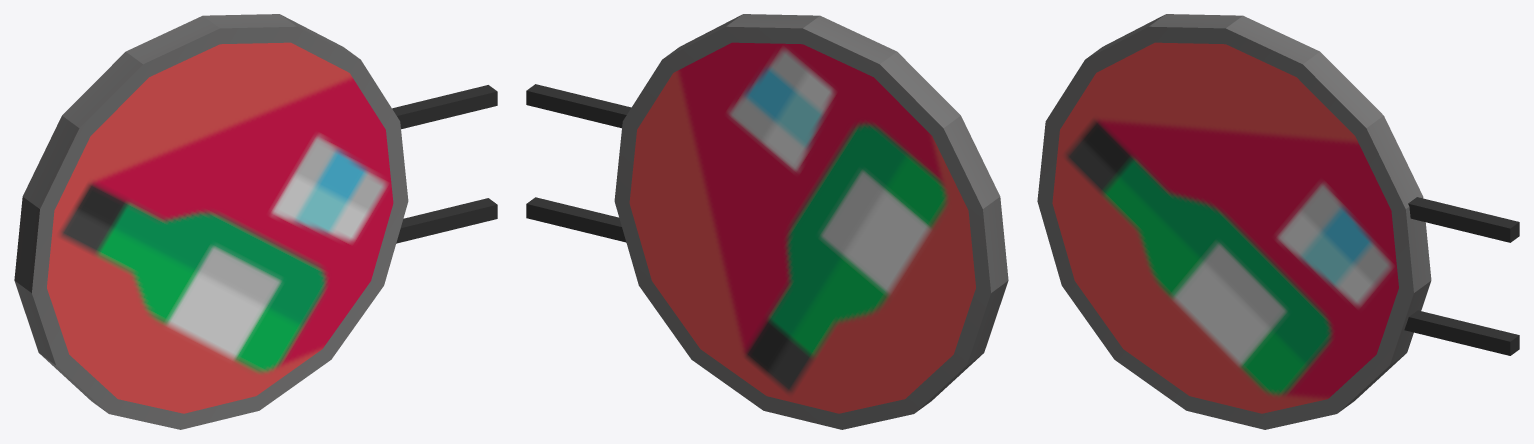
Rendered from B02_Enseigne_B_01.fbx.
The picture shows the model from 3 angles, left to right: view 1: azimuth 30°, elevation 25°; view 2: azimuth 150°, elevation 25°; view 3: azimuth 330°, elevation 25°; orthographic projection.
Parts seen in each view (by area): view 1: B02_Enseigne_B_01; view 2: B02_Enseigne_B_01; view 3: B02_Enseigne_B_01.
Boxes of the visible parts, <box> form: B02_Enseigne_B_01: <box>14,14,497,429</box>; B02_Enseigne_B_01: <box>526,14,1008,429</box>; B02_Enseigne_B_01: <box>1037,14,1519,429</box>.
Size of the model in its own units: 442 by 353 by 28.45.
